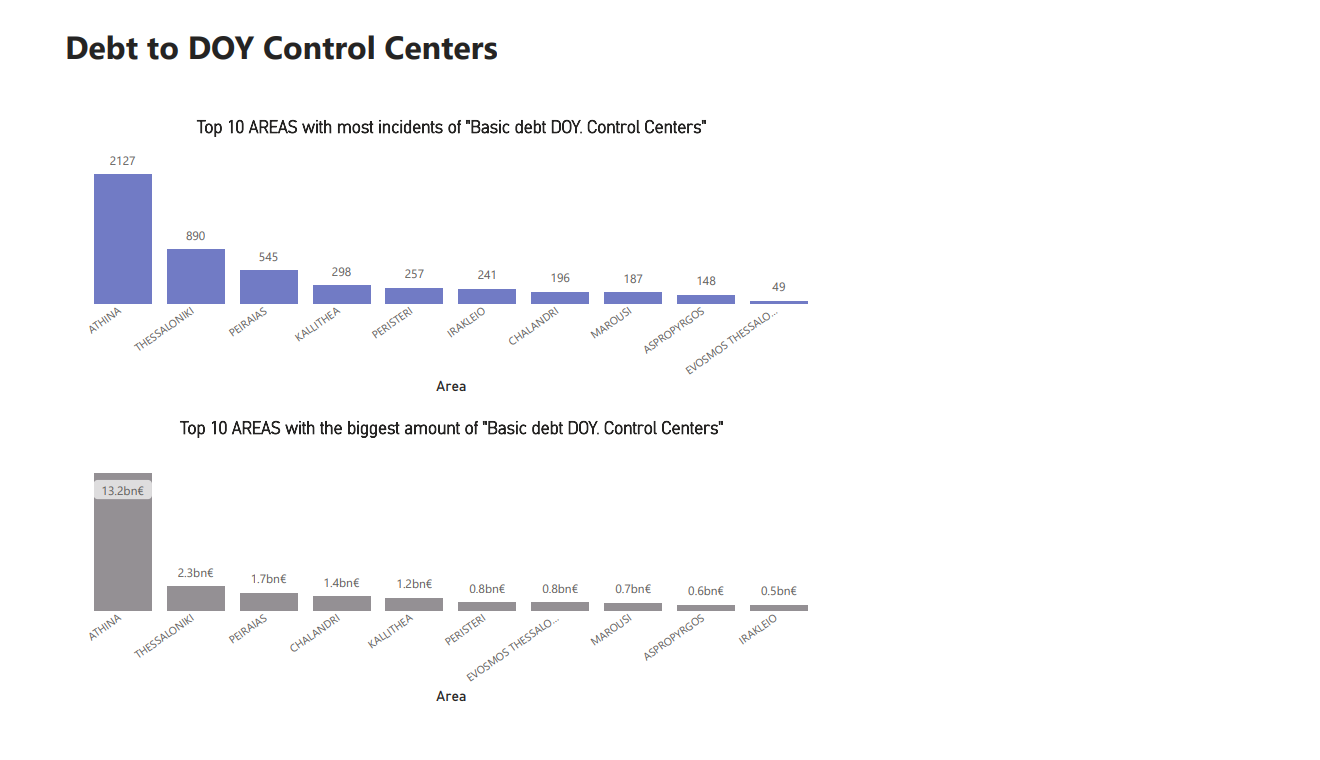

Layout of this report page (visuals, bound fields, positions):
{"tool":"powerbi","page":{"name":"Barcharts of top10 DOY debt","canvas":[1280,720],"ordinal":7},"visuals":[{"type":"textbox","box":[39.8,0,647.3,60.3],"z":0},{"type":"lineClusteredColumnComboChart","title":"Top 10 AREAS with most incidents of \"Basic debt DOY. Control Centers\"","fields":{"Category":["gr-public-debt.Area"],"Y":["Count(gr-public-debt.Basic debt DOY. Control Centers.1)"]},"box":[39.8,97.2,783.4,282.8],"z":1000},{"type":"lineClusteredColumnComboChart","title":"Top 10 AREAS with the biggest amount of \"Basic debt DOY. Control Centers\"","fields":{"Category":["gr-public-debt.Area"],"Y":["Sum(gr-public-debt.Basic debt DOY. Control Centers.1)"]},"box":[39.8,397.5,783.4,292.5],"z":2000}]}

Visuals, with their boxes in screenshot pixels (x1, y1, x2, y2), scaled from the page's 1280x720 canvas onto the 1320x760 screenshot:
textbox: (x1=41, y1=0, x2=709, y2=64)
"Top 10 AREAS with most incidents of "Basic debt DOY. Control Centers"" lineClusteredColumnComboChart: (x1=41, y1=103, x2=849, y2=401)
"Top 10 AREAS with the biggest amount of "Basic debt DOY. Control Centers"" lineClusteredColumnComboChart: (x1=41, y1=420, x2=849, y2=728)
